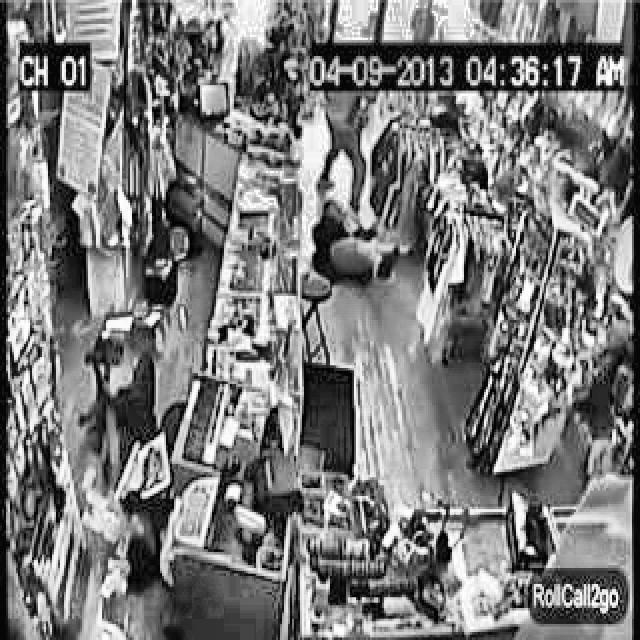robbery: (309, 92, 401, 295)
